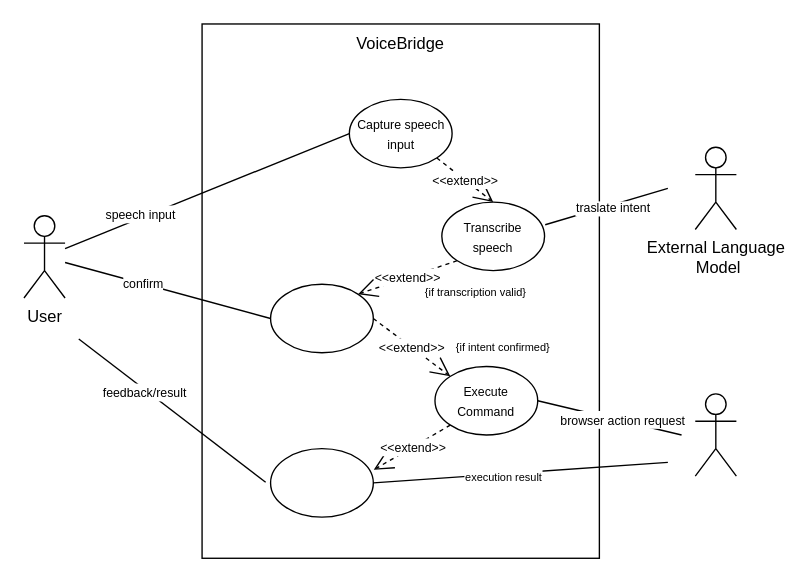
The diagram is 808 pixels wide and 582 high, and some of its shapes have lost their labels. Each missing label, with the centre of its shape:
Confirm intent: point 321,318
Display Result: point 321,482
Web Browser Controller: point 715,434
